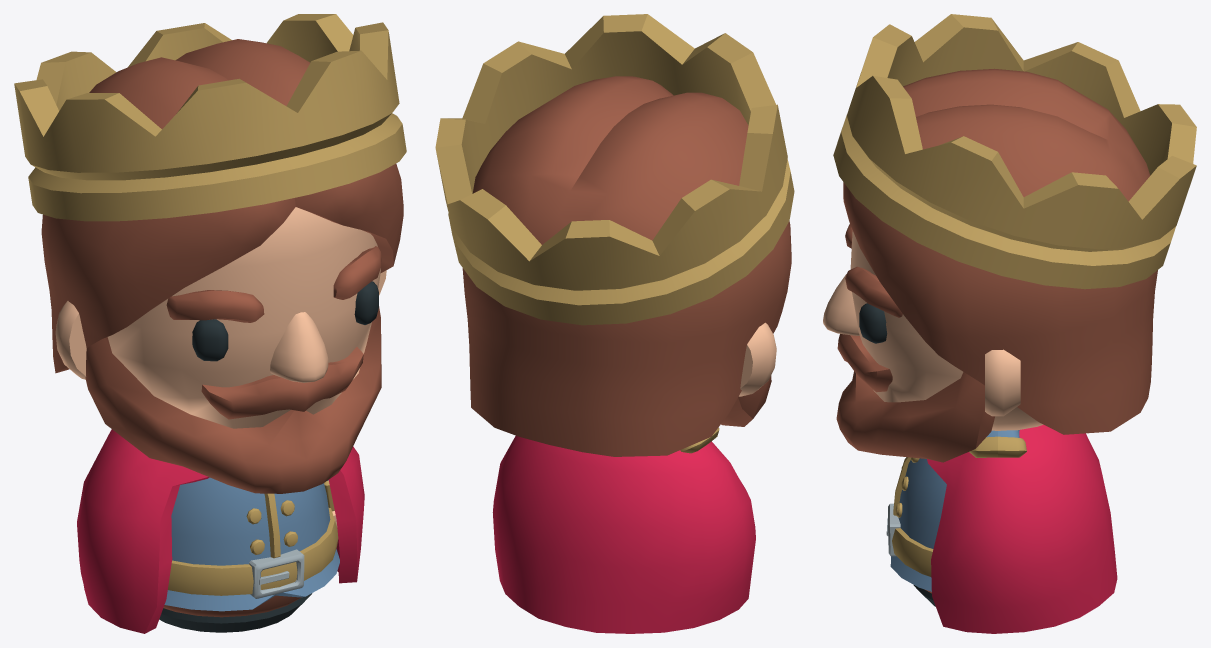
File: character_king.gltf
3 views of the same model, side by side, from view 1: azimuth 30°, elevation 25°; view 2: azimuth 150°, elevation 25°; view 3: azimuth 270°, elevation 25° (orthographic). The views are drawn at different scales.
Visible parts, largest first — view 1: character_kingHead, character_kingCrown, character_kingBody, character_kingCloak; view 2: character_kingHead, character_kingCrown, character_kingCloak; view 3: character_kingHead, character_kingCrown, character_kingCloak, character_kingBody, character_kingArmLeft.
Boxes of the visible parts, left/top/right/bottom form: character_kingHead: left=41, top=39, right=403, bottom=493; character_kingCrown: left=14, top=14, right=406, bottom=221; character_kingBody: left=159, top=477, right=339, bottom=632; character_kingCloak: left=77, top=429, right=364, bottom=633; character_kingHead: left=462, top=76, right=791, bottom=456; character_kingCrown: left=435, top=14, right=794, bottom=325; character_kingCloak: left=492, top=436, right=755, bottom=633; character_kingHead: left=823, top=68, right=1157, bottom=462; character_kingCrown: left=833, top=14, right=1196, bottom=289; character_kingCloak: left=927, top=424, right=1117, bottom=633; character_kingBody: left=886, top=457, right=946, bottom=606; character_kingArmLeft: left=969, top=430, right=1026, bottom=457.
Bounding box in the file's own units: 1.18 × 1.99 × 1.26.
